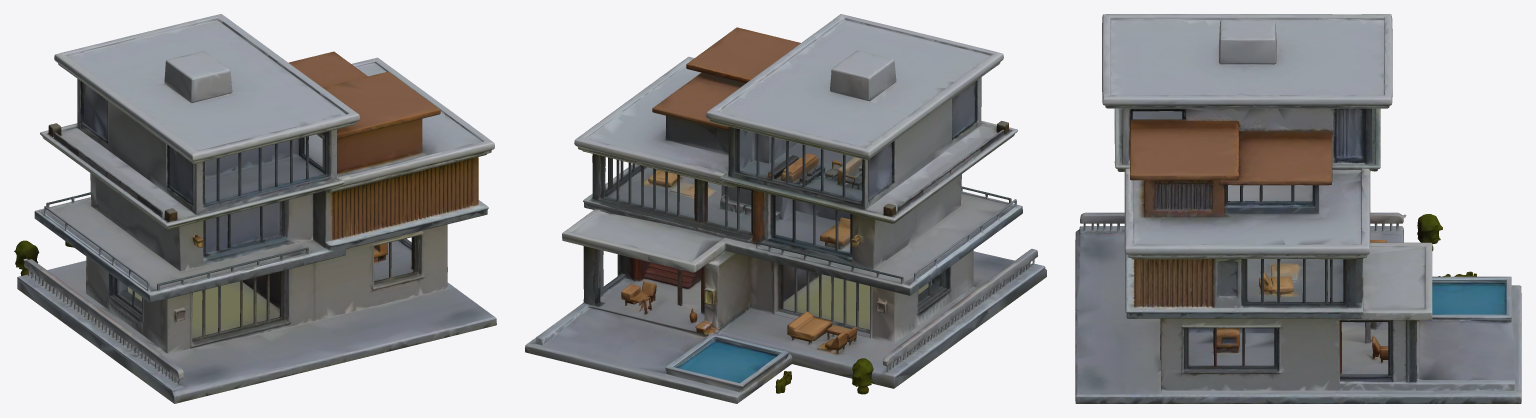
The model's file is aiprintgen_Low Poly Luxury Villa 3D Model for Realtime Games and VR-preview.glb.
3 views of the same model, side by side, from view 1: azimuth 30°, elevation 25°; view 2: azimuth 150°, elevation 25°; view 3: azimuth 270°, elevation 25° (orthographic). The views are drawn at different scales.
Parts seen in each view (by area): view 1: aiprintgen_node_75a7a5e3-18b3-460b-9b70-33eb0c0e7196; view 2: aiprintgen_node_75a7a5e3-18b3-460b-9b70-33eb0c0e7196; view 3: aiprintgen_node_75a7a5e3-18b3-460b-9b70-33eb0c0e7196.
Part boxes in pixels (x1,y1,x2,y2): aiprintgen_node_75a7a5e3-18b3-460b-9b70-33eb0c0e7196: (14,14,496,403); aiprintgen_node_75a7a5e3-18b3-460b-9b70-33eb0c0e7196: (525,14,1046,403); aiprintgen_node_75a7a5e3-18b3-460b-9b70-33eb0c0e7196: (1075,14,1521,403).
Size of the model in its own units: 0.9341 by 0.6546 by 1.
1 material, 1 textured.
